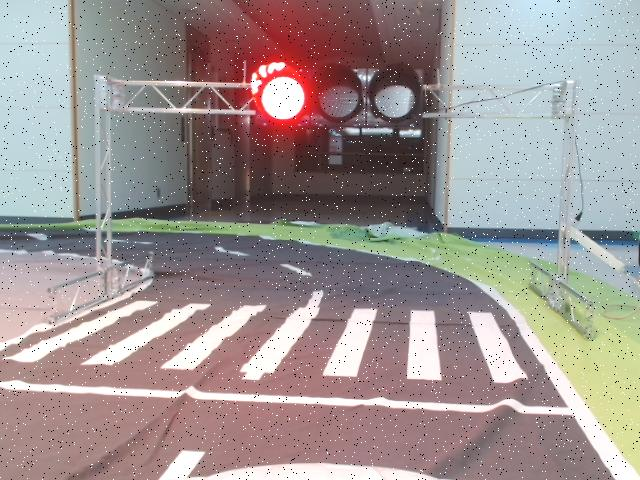crosswalk: (1, 301, 532, 386)
traffic light-red-: (250, 65, 423, 128)
